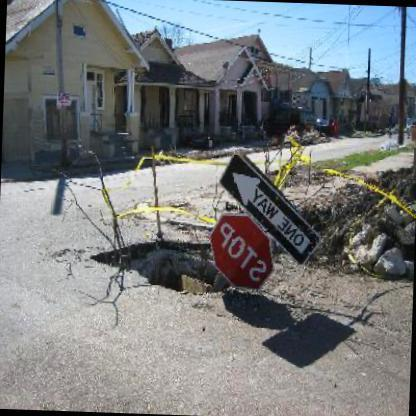pothole: (92, 235, 234, 300)
